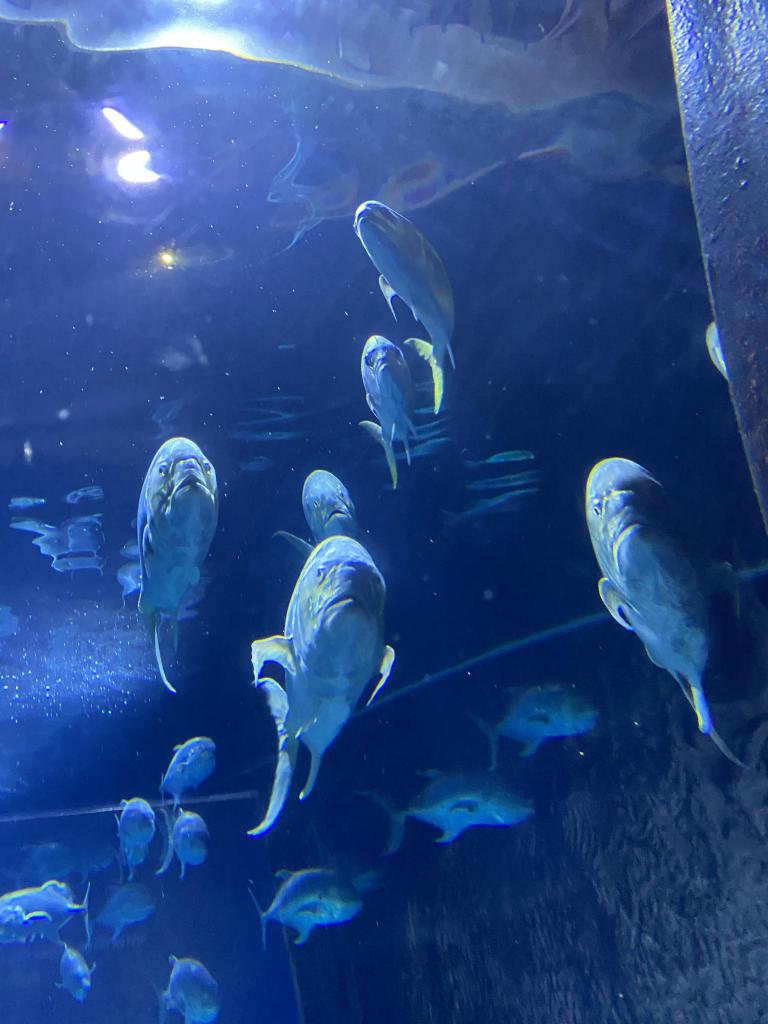fish: (247, 535, 393, 835), (586, 456, 720, 732), (353, 200, 457, 414), (136, 437, 216, 691), (355, 772, 533, 854), (472, 682, 594, 768), (358, 336, 416, 488), (246, 871, 358, 945), (276, 470, 358, 562), (0, 881, 93, 950), (151, 953, 221, 1023), (158, 805, 212, 881), (160, 738, 216, 808), (83, 884, 153, 938), (113, 798, 155, 878), (54, 942, 94, 1004)
